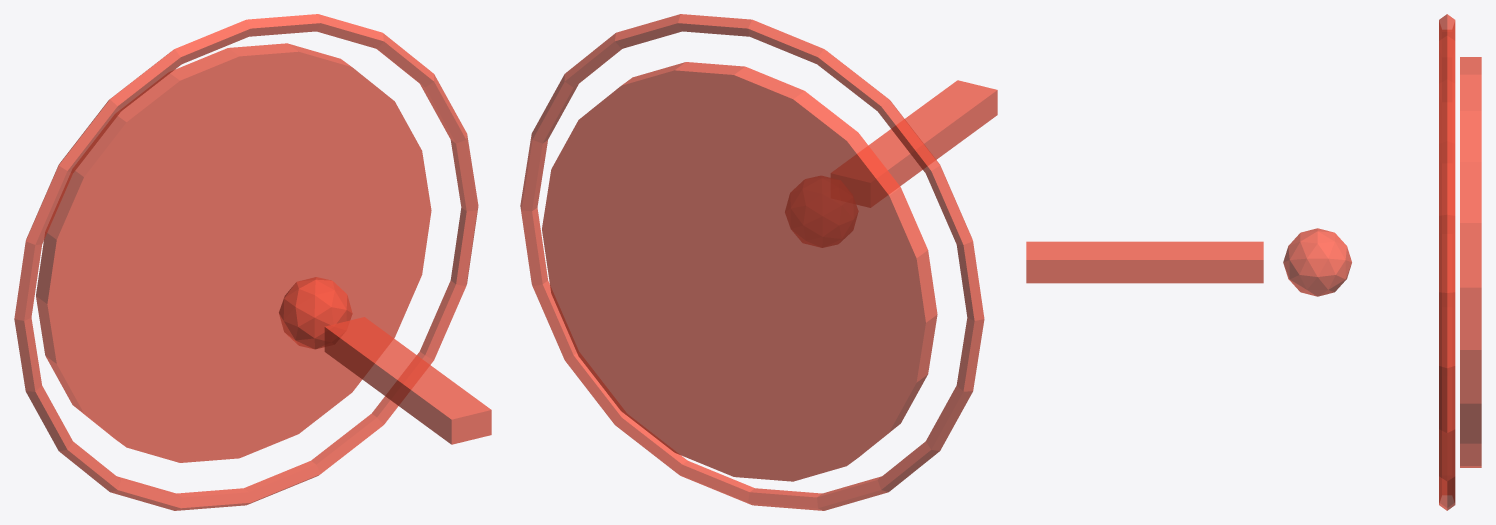
File: 08_danger_exclamation_marker.glb
The picture shows the model from 3 angles, left to right: view 1: azimuth 30°, elevation 25°; view 2: azimuth 150°, elevation 25°; view 3: azimuth 270°, elevation 25°; orthographic projection. The views are drawn at different scales.
Parts seen in each view (by area): view 1: base_disc, base_ring, bang_line, bang_dot; view 2: base_disc, base_ring, bang_line, bang_dot; view 3: bang_line, base_disc, base_ring, bang_dot.
Part boxes in pixels (x1,y1,x2,y2): base_disc: (36,43,431,462); base_ring: (14,14,478,510); bang_line: (324,317,491,444); bang_dot: (279,277,352,349); base_disc: (542,62,937,481); base_ring: (520,14,984,510); bang_line: (831,80,997,207); bang_dot: (785,176,857,247); bang_line: (1026,241,1263,283); base_disc: (1460,57,1481,467); base_ring: (1439,14,1455,510); bang_dot: (1283,228,1351,296).
Size of the model in its own units: 1.16 by 1.16 by 1.05.
